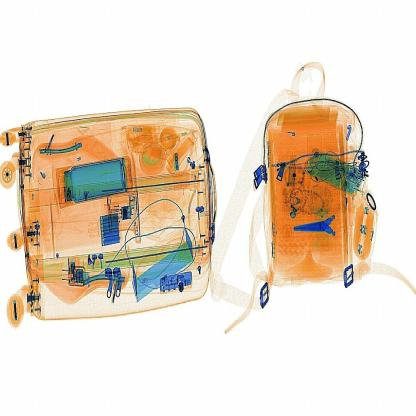gun: (290, 214, 349, 243)
